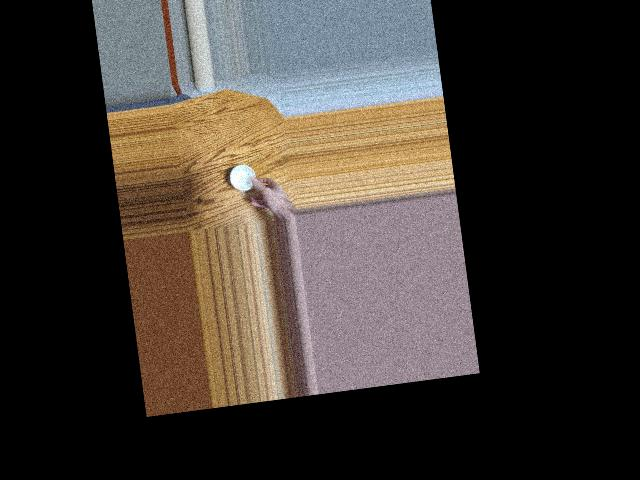cotage: (227, 160, 257, 192)
